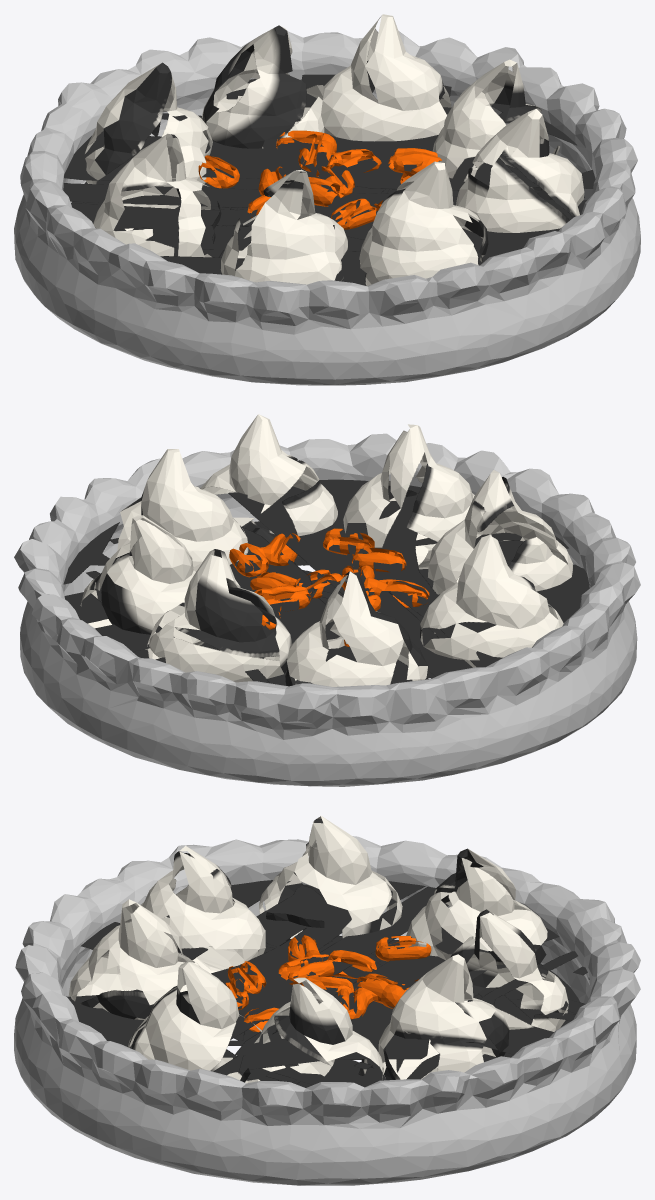
The model's file is Pie.obj.
The picture shows the model from 3 angles, top to bottom: view 1: azimuth 30°, elevation 25°; view 2: azimuth 150°, elevation 25°; view 3: azimuth 270°, elevation 25°; orthographic projection.
Visible parts, largest first — view 1: model_3, model_1, model_0, model_2; view 2: model_3, model_1, model_0, model_2; view 3: model_3, model_1, model_0, model_2.
Boxes of the visible parts, bbox=[...] form: model_3: bbox=[14, 31, 640, 385]; model_1: bbox=[85, 14, 584, 285]; model_0: bbox=[63, 74, 595, 285]; model_2: bbox=[198, 130, 441, 229]; model_3: bbox=[14, 433, 640, 786]; model_1: bbox=[80, 414, 572, 686]; model_0: bbox=[63, 479, 589, 685]; model_2: bbox=[229, 528, 429, 646]; model_3: bbox=[14, 836, 640, 1185]; model_1: bbox=[68, 815, 568, 1083]; model_0: bbox=[66, 880, 589, 1087]; model_2: bbox=[225, 935, 431, 1032].
Size of the model in its own units: 310 by 90.59 by 311.
